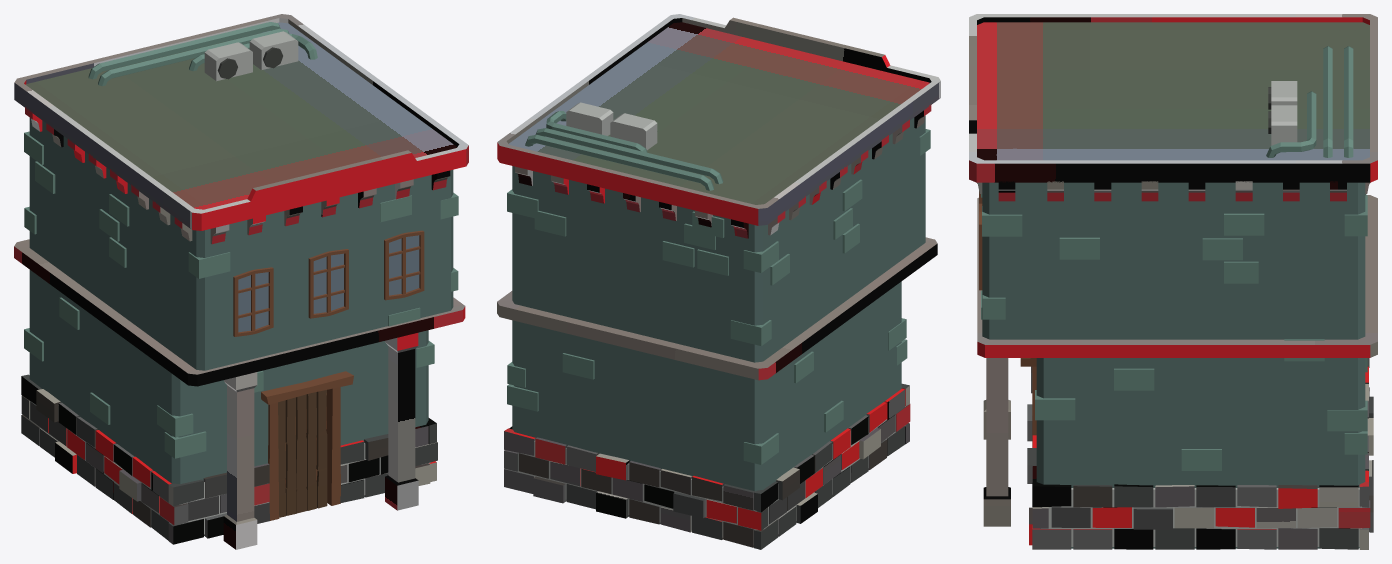
Rendered from quaternius-ultimate-textured-building-2-story-columns-mat.glb.
The picture shows the model from 3 angles, left to right: view 1: azimuth 30°, elevation 25°; view 2: azimuth 150°, elevation 25°; view 3: azimuth 270°, elevation 25°; orthographic projection. The views are drawn at different scales.
Parts seen in each view (by area): view 1: 2Story_Columns_Mat; view 2: 2Story_Columns_Mat; view 3: 2Story_Columns_Mat.
Part boxes in pixels (x1,y1,x2,y2): 2Story_Columns_Mat: [14, 14, 468, 549]; 2Story_Columns_Mat: [497, 14, 940, 549]; 2Story_Columns_Mat: [969, 14, 1377, 549].
Size of the model in its own units: 2.16 by 2.77 by 2.49.
Materials: 3 (3 with a texture image).
